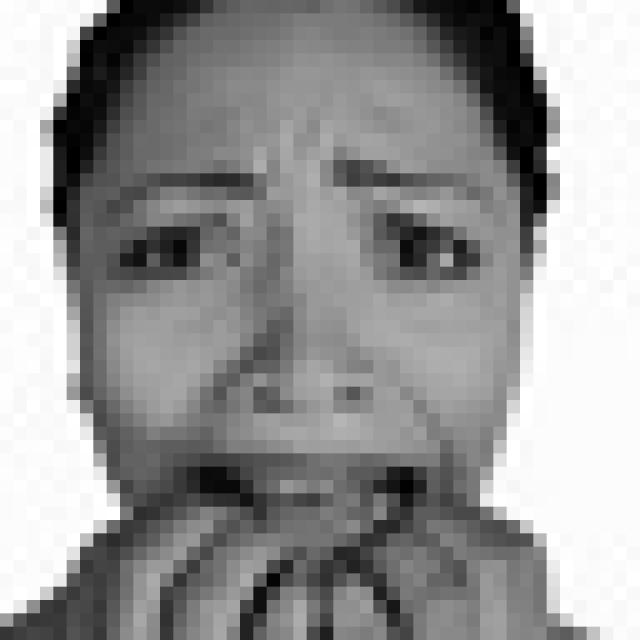fear: (102, 125, 504, 564)
